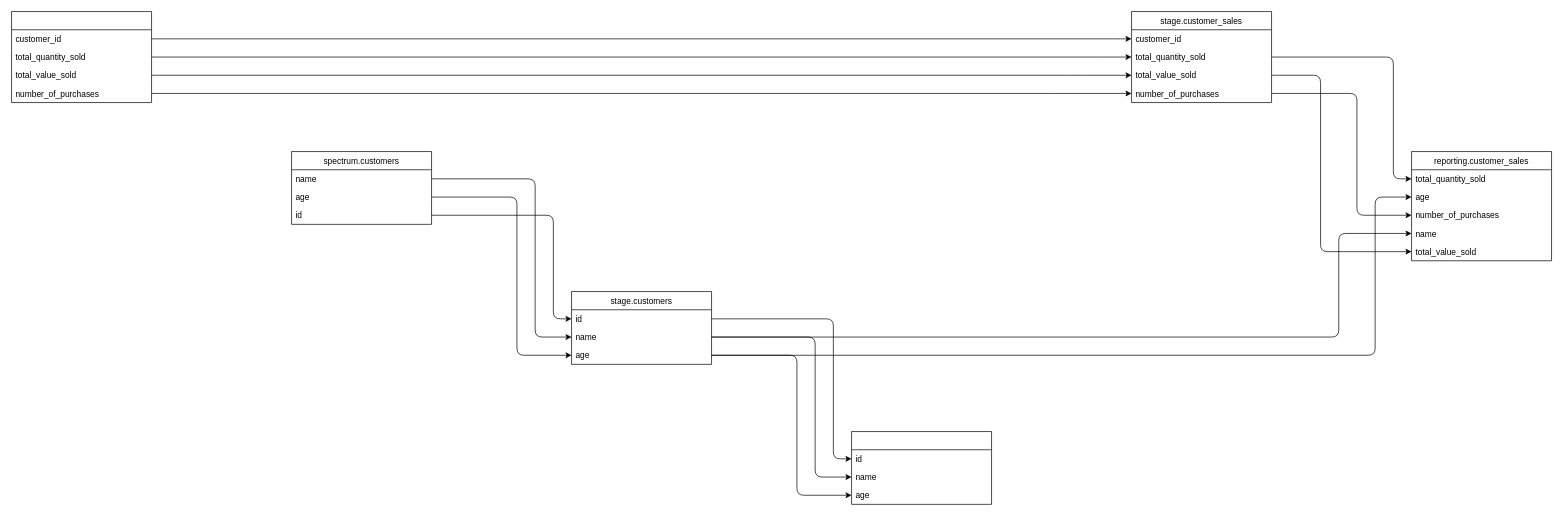
Some shapes in this 1563 by 516 pixel diagram are drawn without their labels. Each missing label, with the box of its shape:
reporting.customers: (851, 431, 992, 504)
spectrum.sales: (11, 11, 152, 103)
